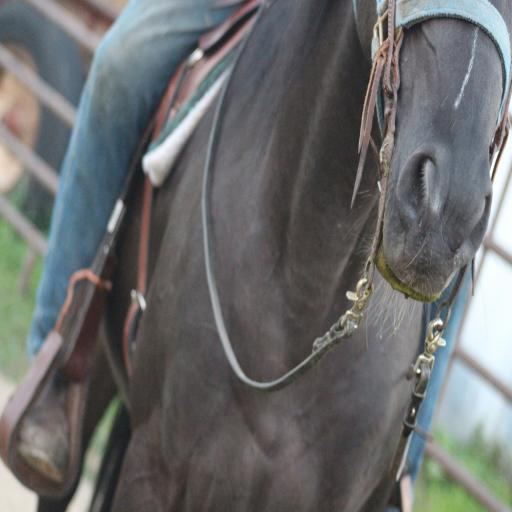Horse: (36, 1, 512, 511)
